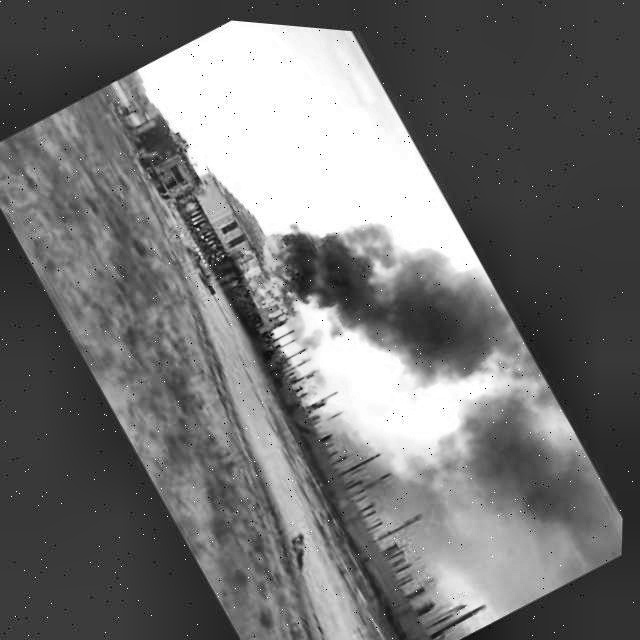Fire: (226, 211, 326, 319)
Smoke: (272, 138, 549, 442)
